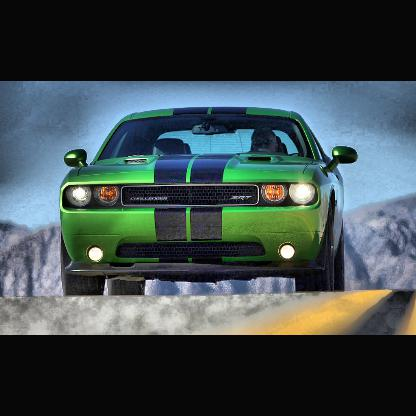Dodge Challenger SRT8 2011: (61, 107, 360, 295)
